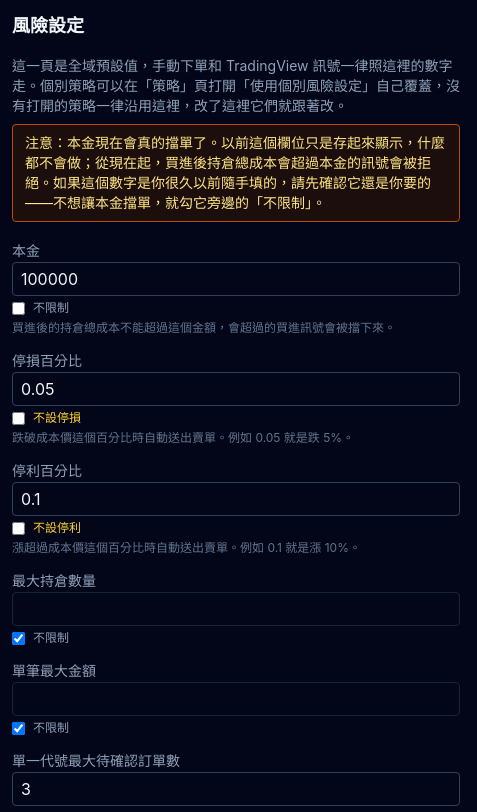
Scenario: RiskSettingsPage › says out loud that a switched-off stop-loss never closes the position
This screenshot has width=477, height=812.
Check: the field labelled "停損百分比" is shown, box [12,372,460,406]
What coordinates should you click on to do the following:
click the checkbox named "停損百分比：不設停損"
I would click on:
 (18, 418)
Its box is [12,412,25,424].
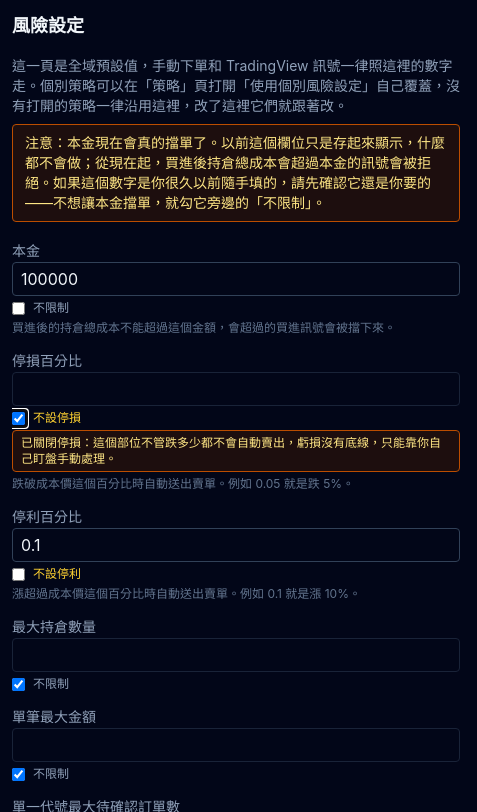
Check: the text "已關閉停損：這個部位不管跌多少都不會自動賣出，虧損沒有底線，只能靠你自己盯盤手動處理。" is shown, box [12,430,460,472]
